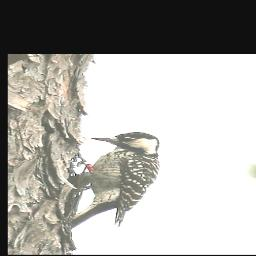Woodpecker: (63, 132, 160, 229)
